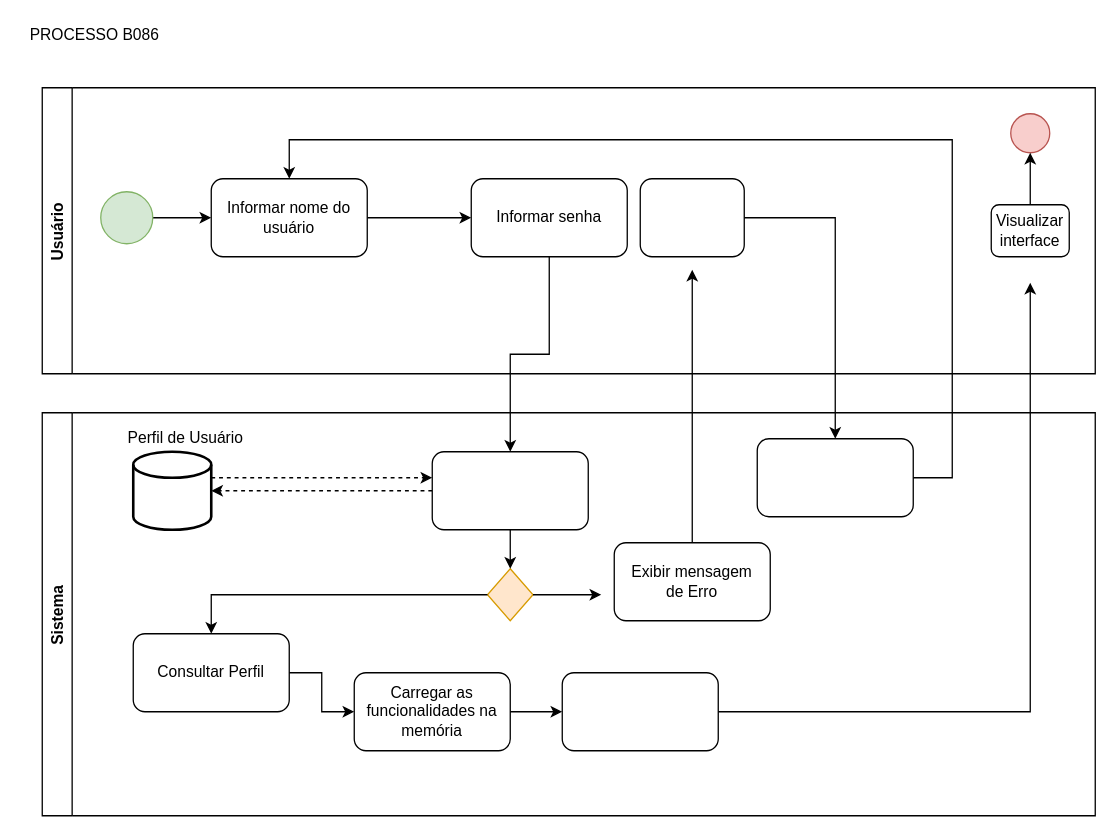
Some shapes in this 1118 by 838 pixel diagram are drawn without their labels. Here are the shapes that lost their labels. From the top down, the box of each, then its label:
(639, 177, 744, 257): Confirmar a mensagem de erro
(431, 450, 588, 530): Verificar se o usuário e senha estão corretos
(756, 437, 913, 517): Limpar os campos
(561, 671, 718, 751): Elaborar interface de usuário
